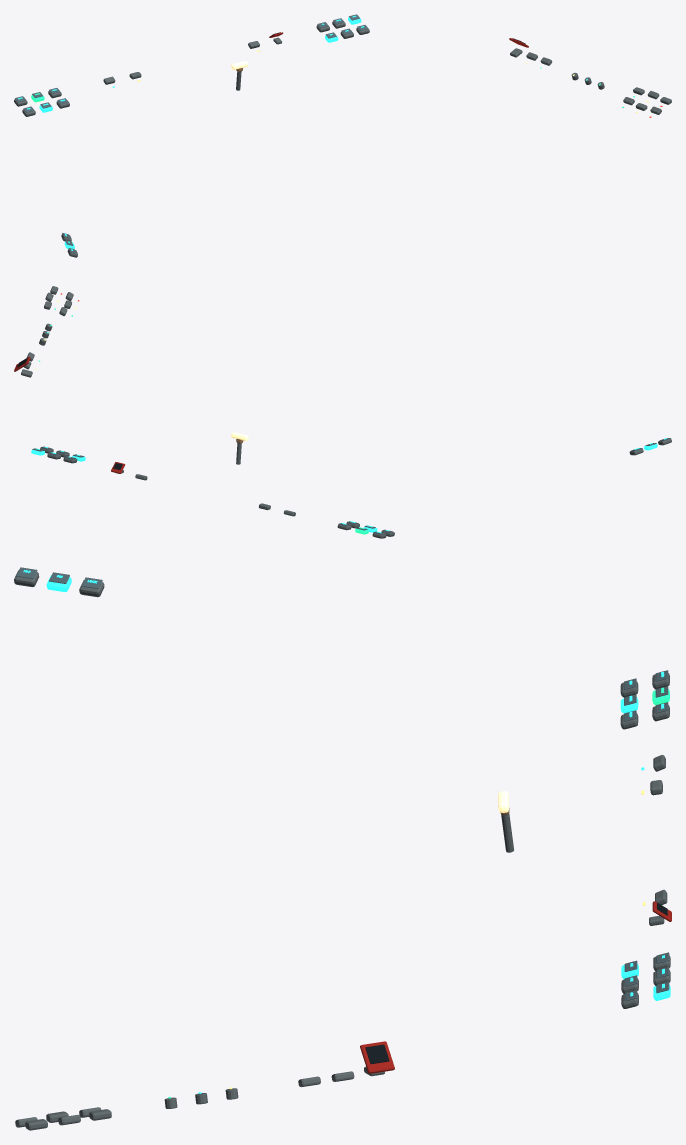
The model's file is cockpit-v7-controls.glb.
3 views of the same model, one above another, from view 1: azimuth 30°, elevation 25°; view 2: azimuth 150°, elevation 25°; view 3: azimuth 270°, elevation 25° (orthographic). The views are drawn at different scales.
Bounding box in the file's own units: 17.68 × 0.9154 × 8.71.
